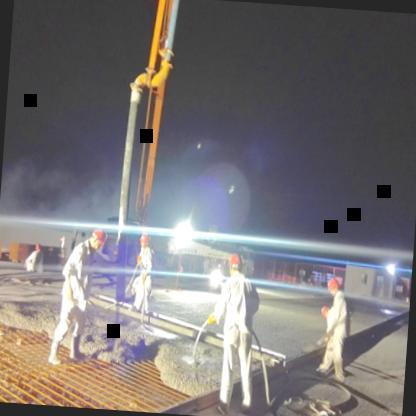helmet: (87, 225, 109, 254), (226, 252, 244, 280), (326, 276, 340, 300), (138, 232, 152, 254)
